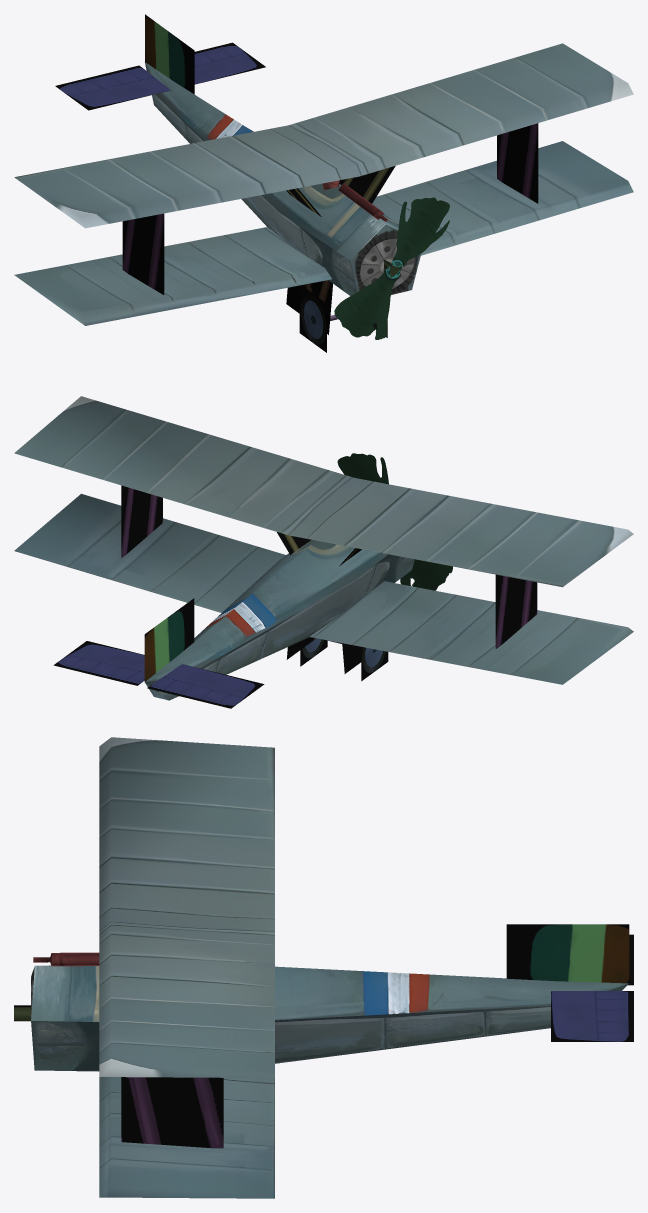
File: nieuport17.gltf
The picture shows the model from 3 angles, top to bottom: view 1: azimuth 30°, elevation 25°; view 2: azimuth 150°, elevation 25°; view 3: azimuth 270°, elevation 25°; orthographic projection. The views are drawn at different scales.
Visible parts, largest first — view 1: nieuport17_atomic1, nieuport17_atomic0; view 2: nieuport17_atomic1, nieuport17_atomic0; view 3: nieuport17_atomic1.
Boxes of the visible parts, bbox=[...] form: nieuport17_atomic1: bbox=[14, 14, 633, 352]; nieuport17_atomic0: bbox=[334, 197, 449, 339]; nieuport17_atomic1: bbox=[14, 396, 633, 708]; nieuport17_atomic0: bbox=[337, 453, 452, 590]; nieuport17_atomic1: bbox=[14, 737, 633, 1198].
Bounding box in the file's own units: 22.48 × 7.58 × 17.82.
12 materials, 12 textured.
